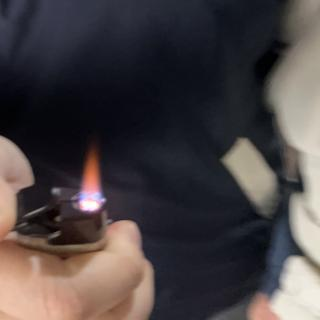fire: (78, 148, 105, 199)
